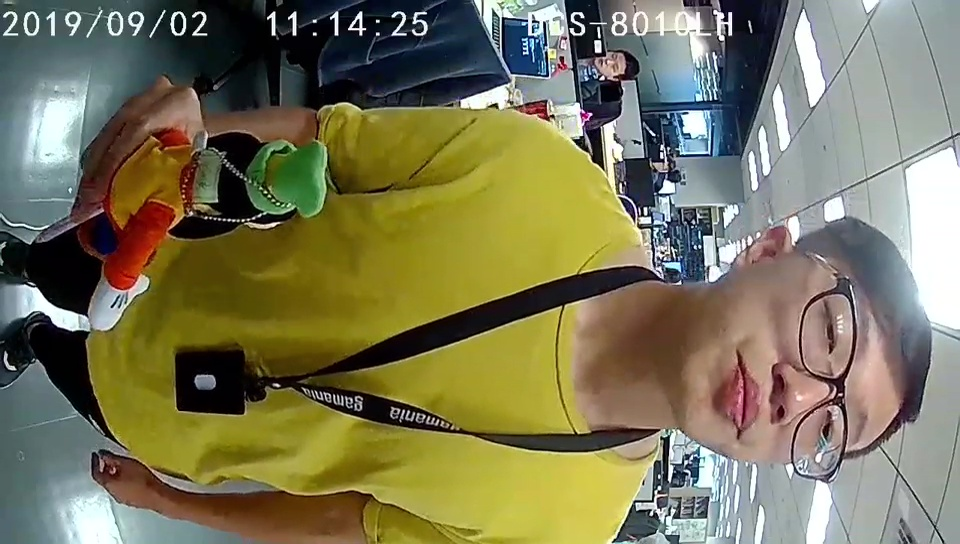goofy: (87, 135, 326, 333)
